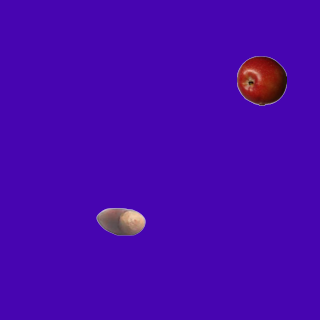Apple Braeburn: (236, 55, 286, 105)
Hazelnut: (95, 196, 145, 246)
